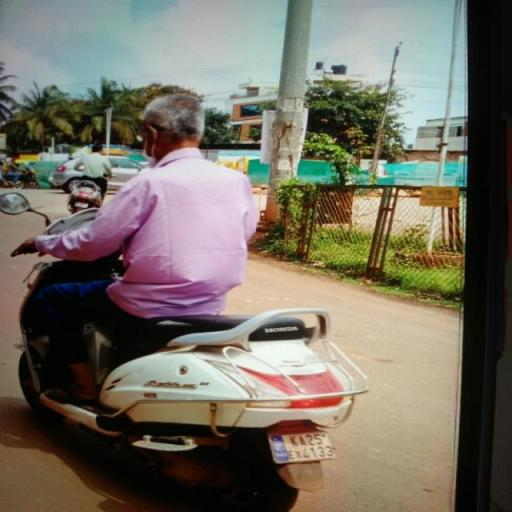bike: (6, 87, 368, 512)
numberplate: (266, 427, 336, 467)
withouthelmet: (146, 96, 205, 152)
